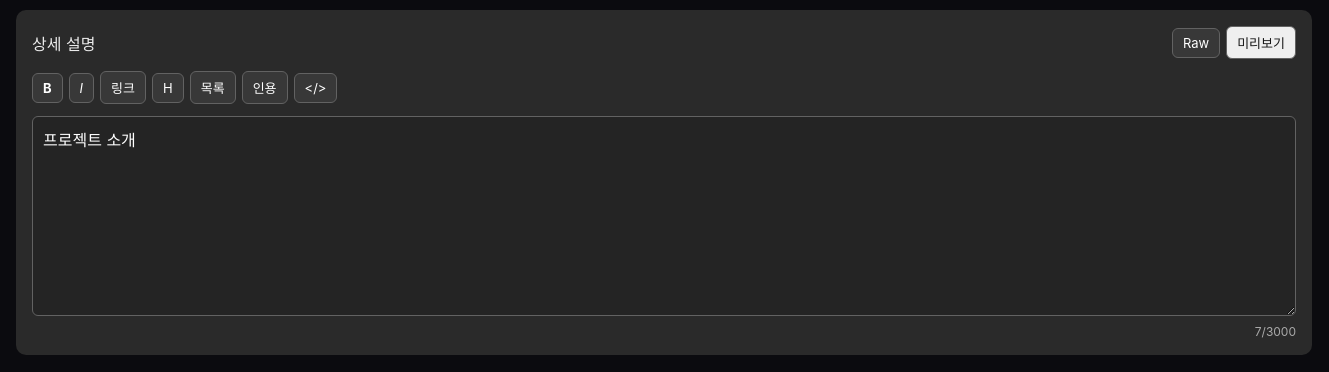
Test case: 선택한 글자에 서식을 넣고 미리보기와 Raw 전환 중 원문을 보존한다
This screenshot has width=1329, height=372.
Step 1. Click the button "Raw" → (1196, 42), box [1172,28,1220,58]
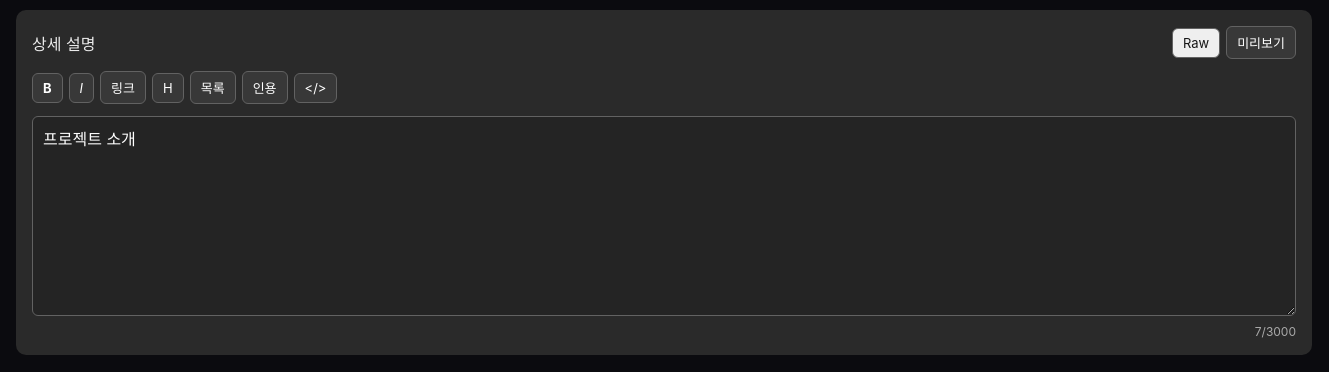
Step 2. Click the button named "볼드" → (47, 88), box [32,72,63,102]
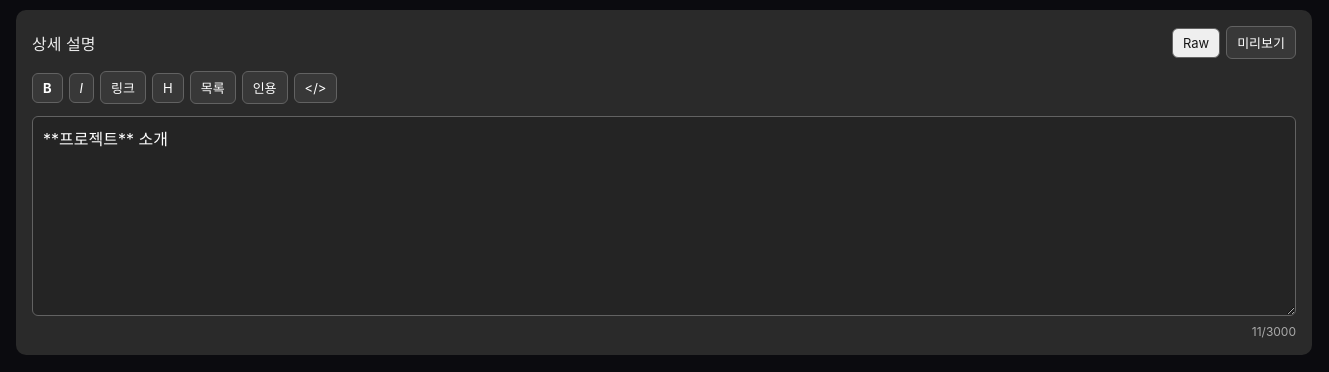
Now the text box named "상세 설명" holds "**프로젝트** 소개", box [32,116,1296,316]
Step 3. Click the button "미리보기" → (1261, 42), box [1226,26,1296,59]
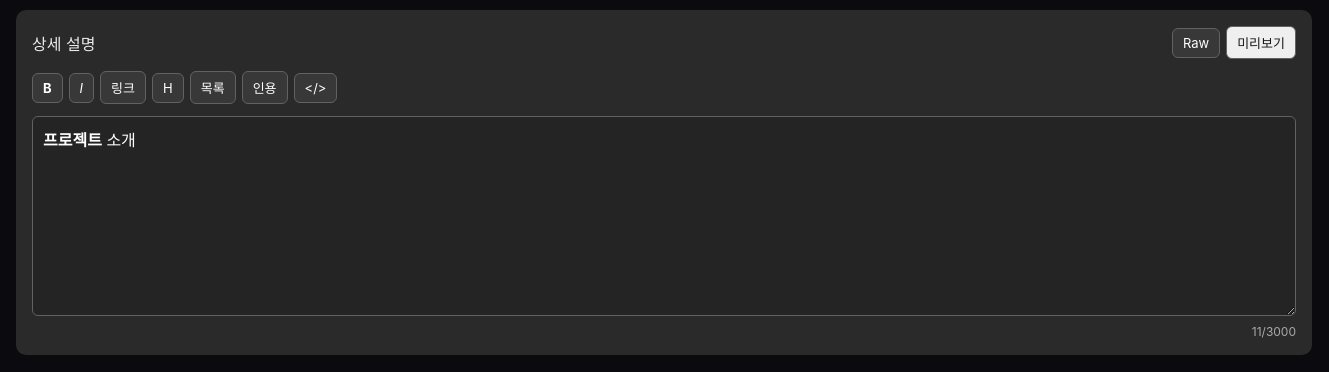
Step 4. Click the button "Raw" → (1196, 42), box [1172,28,1220,58]
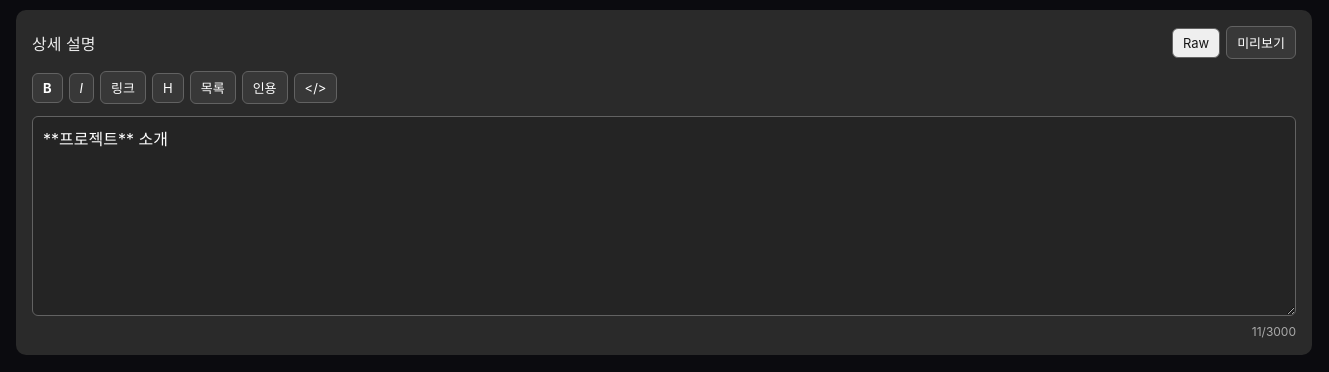
Now the text box named "상세 설명" holds "**프로젝트** 소개", box [32,116,1296,316]
